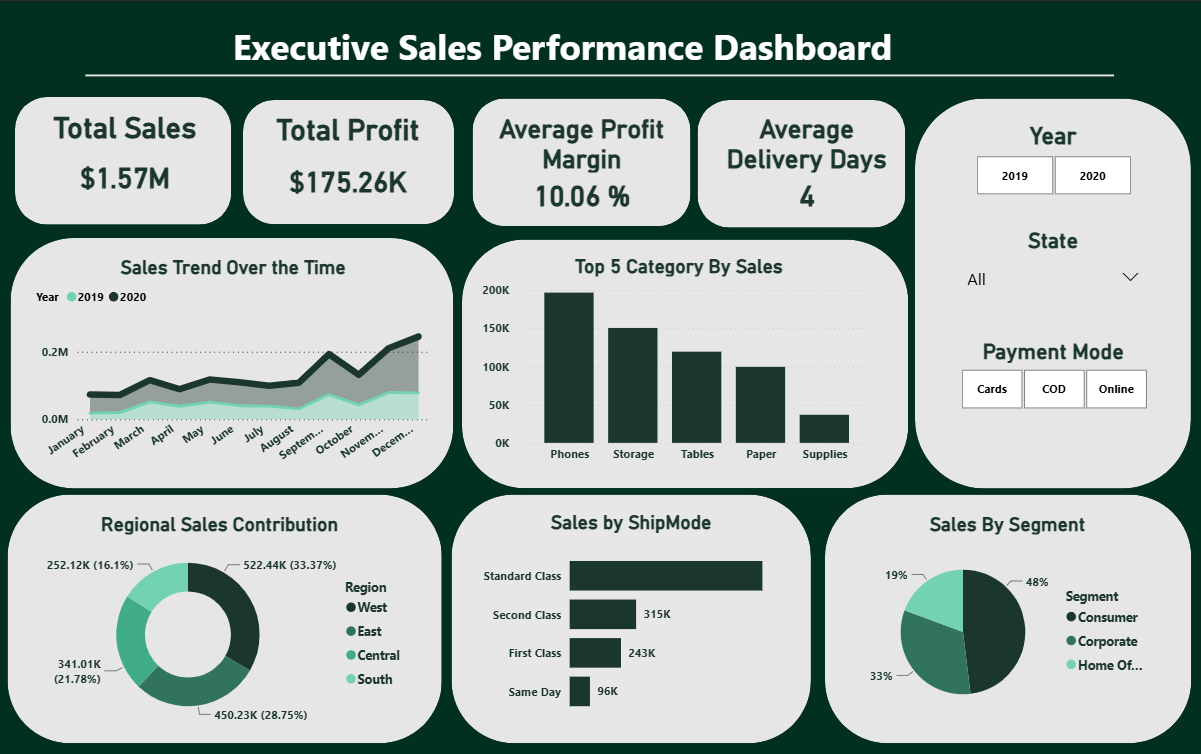

What the dashboard file says about the page in this screenshot:
{"tool":"powerbi","page":{"name":"Page 1","canvas":[1280,800],"ordinal":0},"visuals":[{"type":"shape","box":[19.9,101.2,229.5,135.5],"z":0},{"type":"card","title":"Total Sales","fields":{"Values":["Table.total sale"]},"box":[39.8,115.7,191.6,103],"z":1000},{"type":"shape","box":[260.2,104.8,224.1,131.9],"z":2000},{"type":"shape","box":[504.2,103,231.3,135.5],"z":3000},{"type":"card","title":"Total Profit","fields":{"Values":["Table.total p"]},"box":[267.5,117.5,209.6,108.4],"z":4000},{"type":"card","title":"Average Profit Margin","fields":{"Values":["Table.average margin"]},"box":[515.1,119.3,209.6,108.4],"z":5000},{"type":"shape","box":[14.5,251.2,469.9,265.7],"z":6000},{"type":"shape","box":[493.4,253,473.5,263.9],"z":7000},{"type":"clusteredColumnChart","title":"Top 5 Category By Sales","fields":{"Category":["Sheet1.Sub-Category"],"Y":["Sum(Sheet1.Sales)"]},"box":[509.7,269.3,428.3,229.5],"z":8000},{"type":"shape","box":[10.8,524.1,460.9,263.9],"z":9000},{"type":"donutChart","title":"Regional Sales Contribution","fields":{"Category":["Sheet1.Region"],"Y":["Sum(Sheet1.Sales)"]},"box":[30.7,542.2,412.1,234.9],"z":10000},{"type":"shape","box":[482.5,524.1,381.3,263.9],"z":11000},{"type":"clusteredBarChart","title":"Sales by ShipMode","fields":{"Y":["Sum(Sheet1.Sales)"],"Category":["Sheet1.Ship Mode"]},"box":[509.7,540.4,327.1,229.5],"z":12000},{"type":"shape","box":[878.3,524.1,388.6,263.9],"z":13000},{"type":"pieChart","title":"Sales By Segment","fields":{"Category":["Sheet1.Segment"],"Y":["Sum(Sheet1.Sales)"]},"box":[910.9,542.2,323.5,229.5],"z":14000},{"type":"shape","box":[742.8,104.8,220.5,135.5],"z":15000},{"type":"card","title":"Average Delivery Days","fields":{"Values":["Avg(Sheet1.avg delivery)"]},"box":[753.6,119.3,209.6,108.4],"z":16000},{"type":"shape","box":[974.1,103,292.8,413.9],"z":17000},{"type":"slicer","title":"Payment Mode","fields":{"Values":["Sheet1.Payment Mode"]},"box":[997.6,357.8,245.8,81.3],"z":18000},{"type":"slicer","title":"Year","fields":{"Values":["Sheet1.Year"]},"box":[1013.9,128.3,213.3,83.1],"z":19000},{"type":"slicer","title":"State","fields":{"Values":["Sheet1.State"]},"box":[1013.9,240.4,213.3,92.2],"z":20000},{"type":"textbox","box":[94,18.1,1012.1,79.5],"z":21000},{"type":"shape","box":[94,57.8,1091.6,43.4],"z":22000},{"type":"stackedAreaChart","title":"Sales Trend Over  the Time","fields":{"Y":["Sum(Sheet1.Sales)"],"Series":["Sheet1.Order Date.Variation.Date Hierarchy.Year"],"Category":["Sheet1.Order Date.Variation.Date Hierarchy.Month"]},"box":[36,270,428,230],"z":23000}]}

Visuals, with their boxes in screenshot pixels (x1, y1, x2, y2), scaled from the page's 1280x800 canvas onto the 1201x754 screenshot:
shape: region(19, 95, 234, 223)
"Total Sales" card: region(37, 109, 217, 206)
shape: region(244, 99, 454, 223)
shape: region(473, 97, 690, 225)
"Total Profit" card: region(251, 111, 448, 213)
"Average Profit Margin" card: region(483, 112, 680, 215)
shape: region(14, 237, 455, 487)
shape: region(463, 238, 907, 487)
"Top 5 Category By Sales" clusteredColumnChart: region(478, 254, 880, 470)
shape: region(10, 494, 443, 743)
"Regional Sales Contribution" donutChart: region(29, 511, 415, 732)
shape: region(453, 494, 810, 743)
"Sales by ShipMode" clusteredBarChart: region(478, 509, 785, 726)
shape: region(824, 494, 1189, 743)
"Sales By Segment" pieChart: region(855, 511, 1158, 727)
shape: region(697, 99, 904, 226)
"Average Delivery Days" card: region(707, 112, 904, 215)
shape: region(914, 97, 1189, 487)
"Payment Mode" slicer: region(936, 337, 1167, 414)
"Year" slicer: region(951, 121, 1151, 199)
"State" slicer: region(951, 227, 1151, 313)
textbox: region(88, 17, 1038, 92)
shape: region(88, 54, 1112, 95)
"Sales Trend Over  the Time" stackedAreaChart: region(34, 254, 435, 471)
